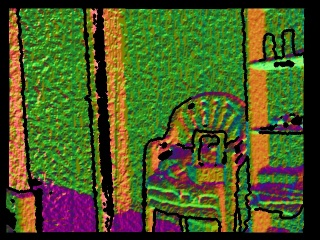station: (187, 129, 226, 183)
